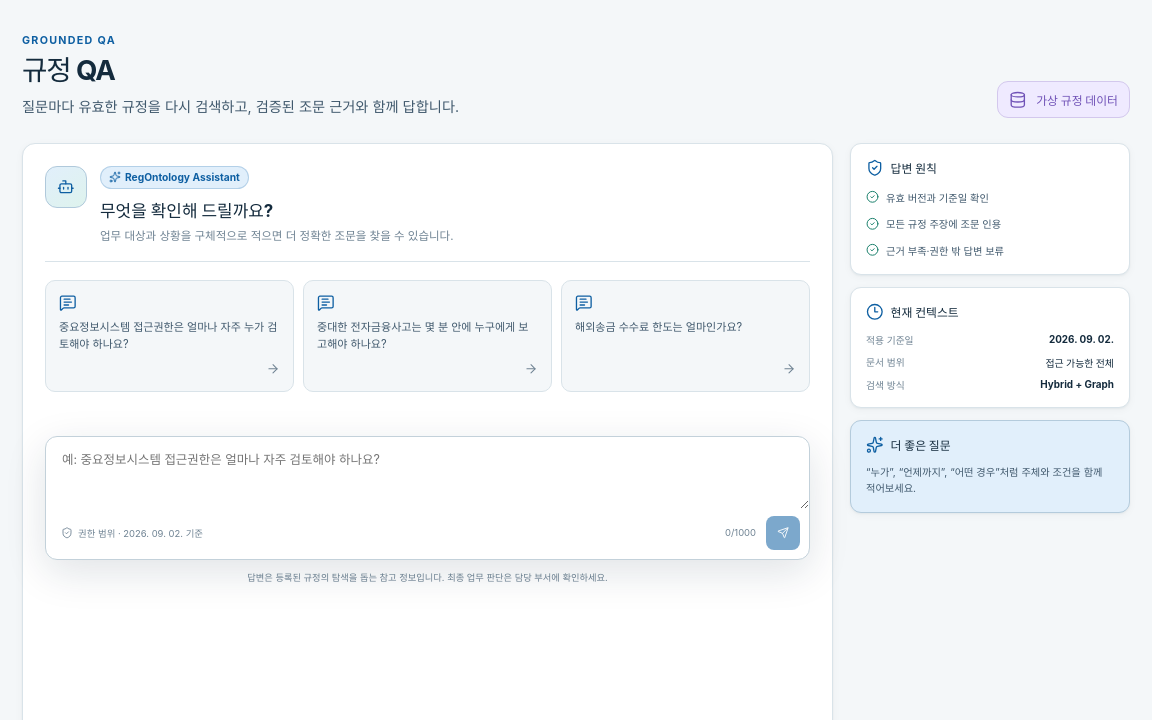
Scenario: QaPage — FR-008/009/010 › shows an explicit abstention when evidence is insufficient
Type "해외송금 수수료 한도는 얼마인가요?" into the text box named "규정 질문" at (428, 472), box [46,436,809,508]
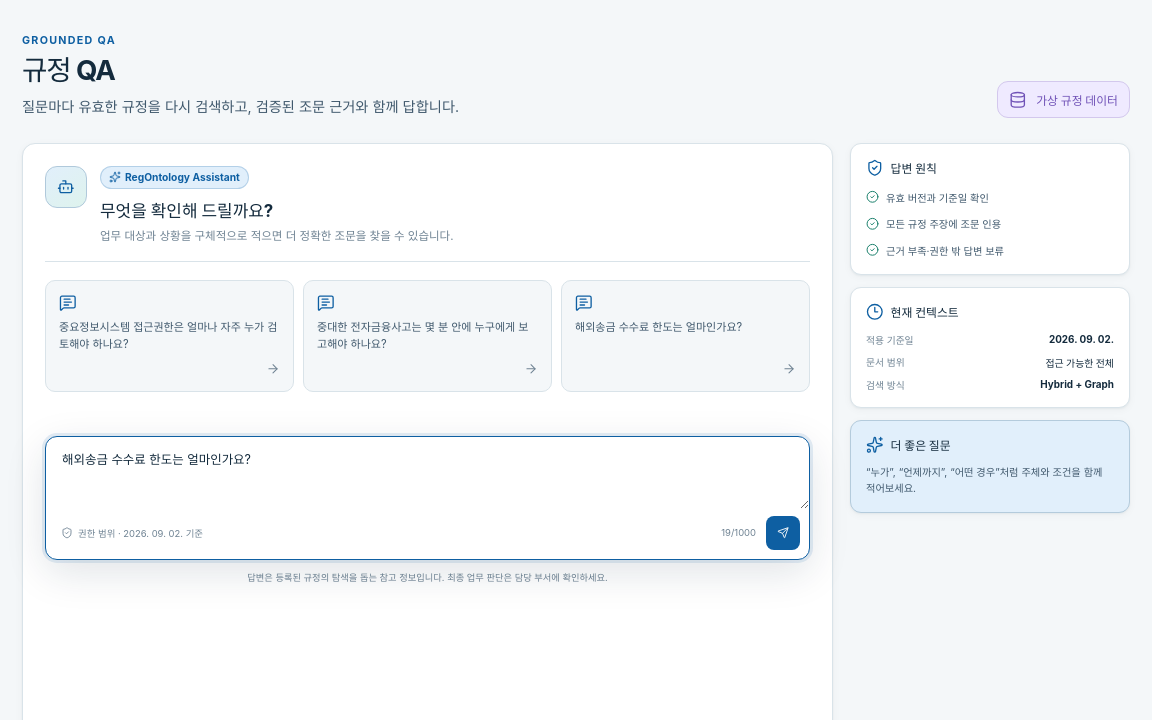
Click the button named "질문 전송" at (783, 532), box [766,516,800,550]
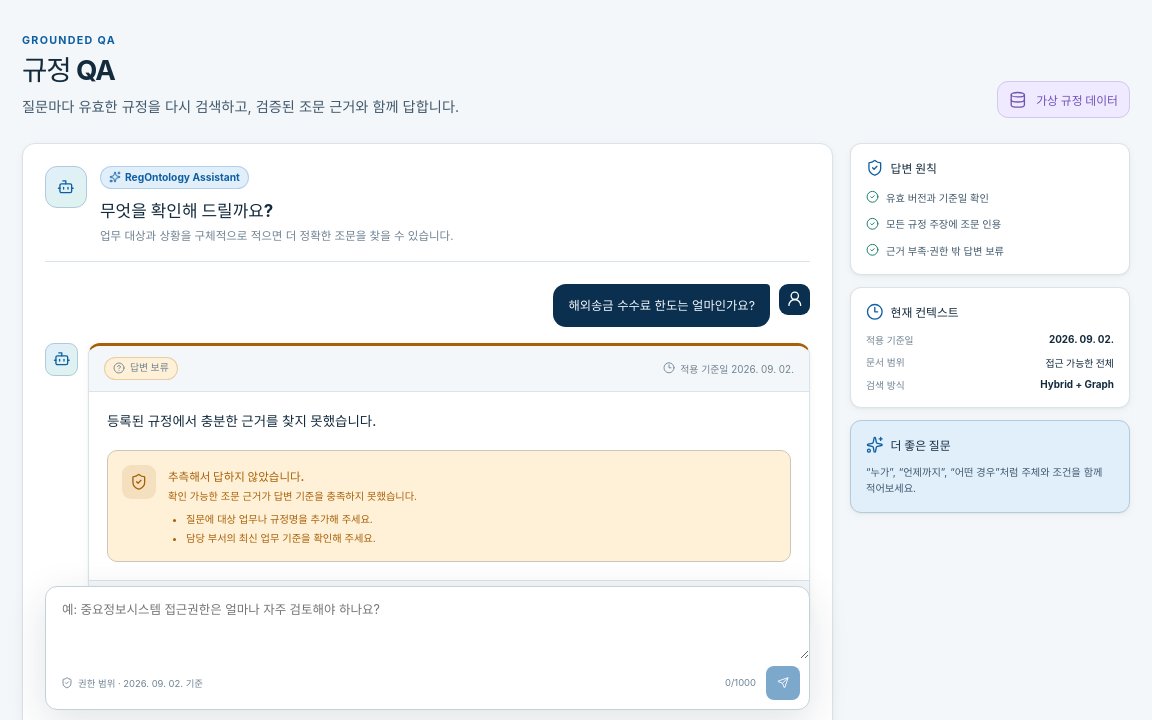
Result: the text "답변 보류" is shown at [104,357,178,380]
Result: the text "추측해서 답하지 않았습니다." is shown at [168,470,304,484]
